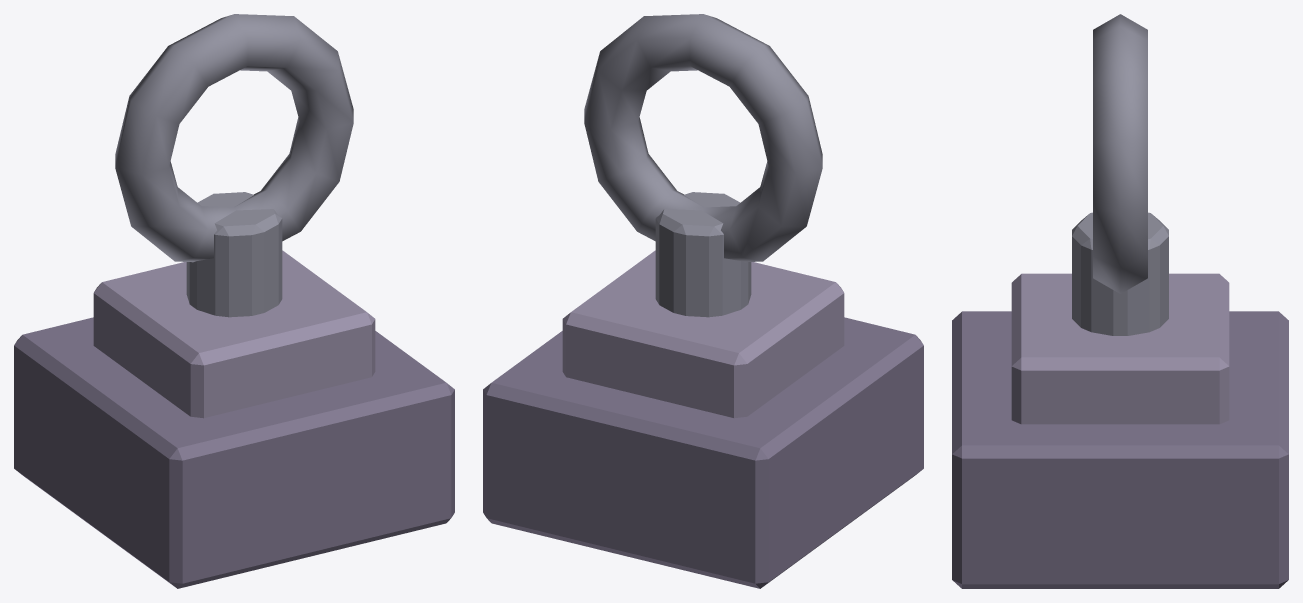
File: ember_chain_anchor.glb
3 renders of one model, left to right at view 1: azimuth 30°, elevation 25°; view 2: azimuth 150°, elevation 25°; view 3: azimuth 270°, elevation 25°, orthographic. The views are drawn at different scales.
Visible parts, largest first — view 1: ember_chain_anchor.001; view 2: ember_chain_anchor.001; view 3: ember_chain_anchor.001.
Part boxes in pixels (<box>): ember_chain_anchor.001: <box>14,14,454,588</box>; ember_chain_anchor.001: <box>483,14,923,588</box>; ember_chain_anchor.001: <box>952,14,1288,588</box>.
Size of the model in its own units: 1.7 by 2.76 by 1.7.
